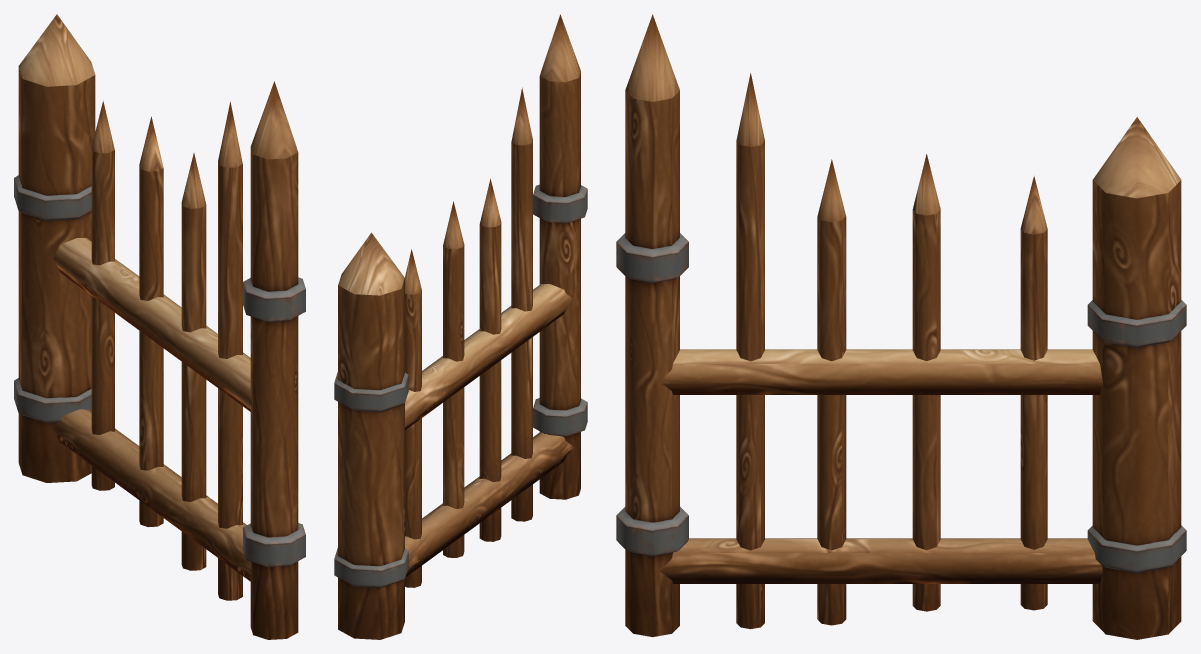
The model's file is wood_fence_Model.fbx.
The picture shows the model from 3 angles, left to right: view 1: azimuth 30°, elevation 25°; view 2: azimuth 150°, elevation 25°; view 3: azimuth 270°, elevation 25°; orthographic projection. The views are drawn at different scales.
Parts seen in each view (by area): view 1: WoodFence_Model; view 2: WoodFence_Model; view 3: WoodFence_Model.
Boxes of the visible parts, x1=… form: WoodFence_Model: x1=14, y1=14, x2=305, y2=639; WoodFence_Model: x1=334, y1=14, x2=587, y2=639; WoodFence_Model: x1=616, y1=14, x2=1186, y2=639.
Bounding box in the file's own units: 0.6146 × 4.19 × 3.54.
